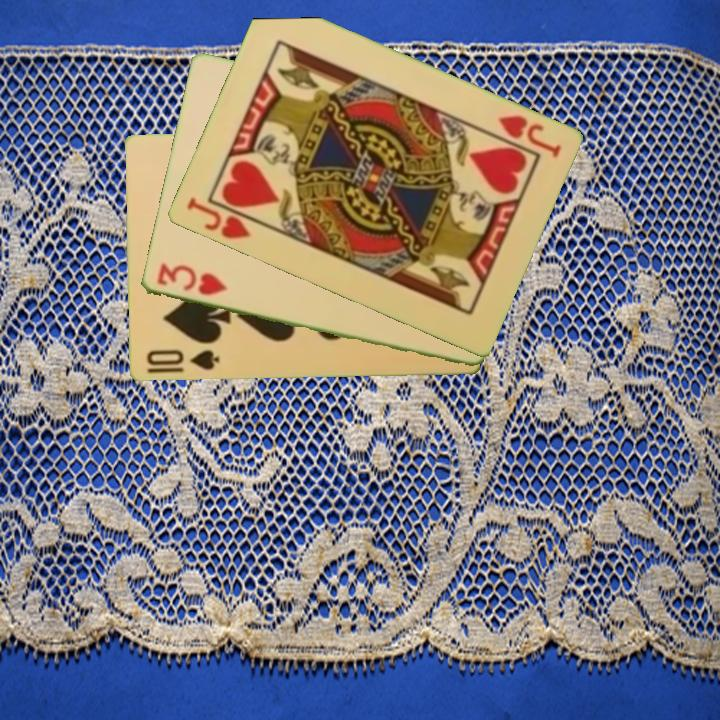10s: (142, 346, 222, 374)
3h: (153, 260, 230, 299)
Jh: (493, 111, 564, 161), (182, 194, 254, 243)
